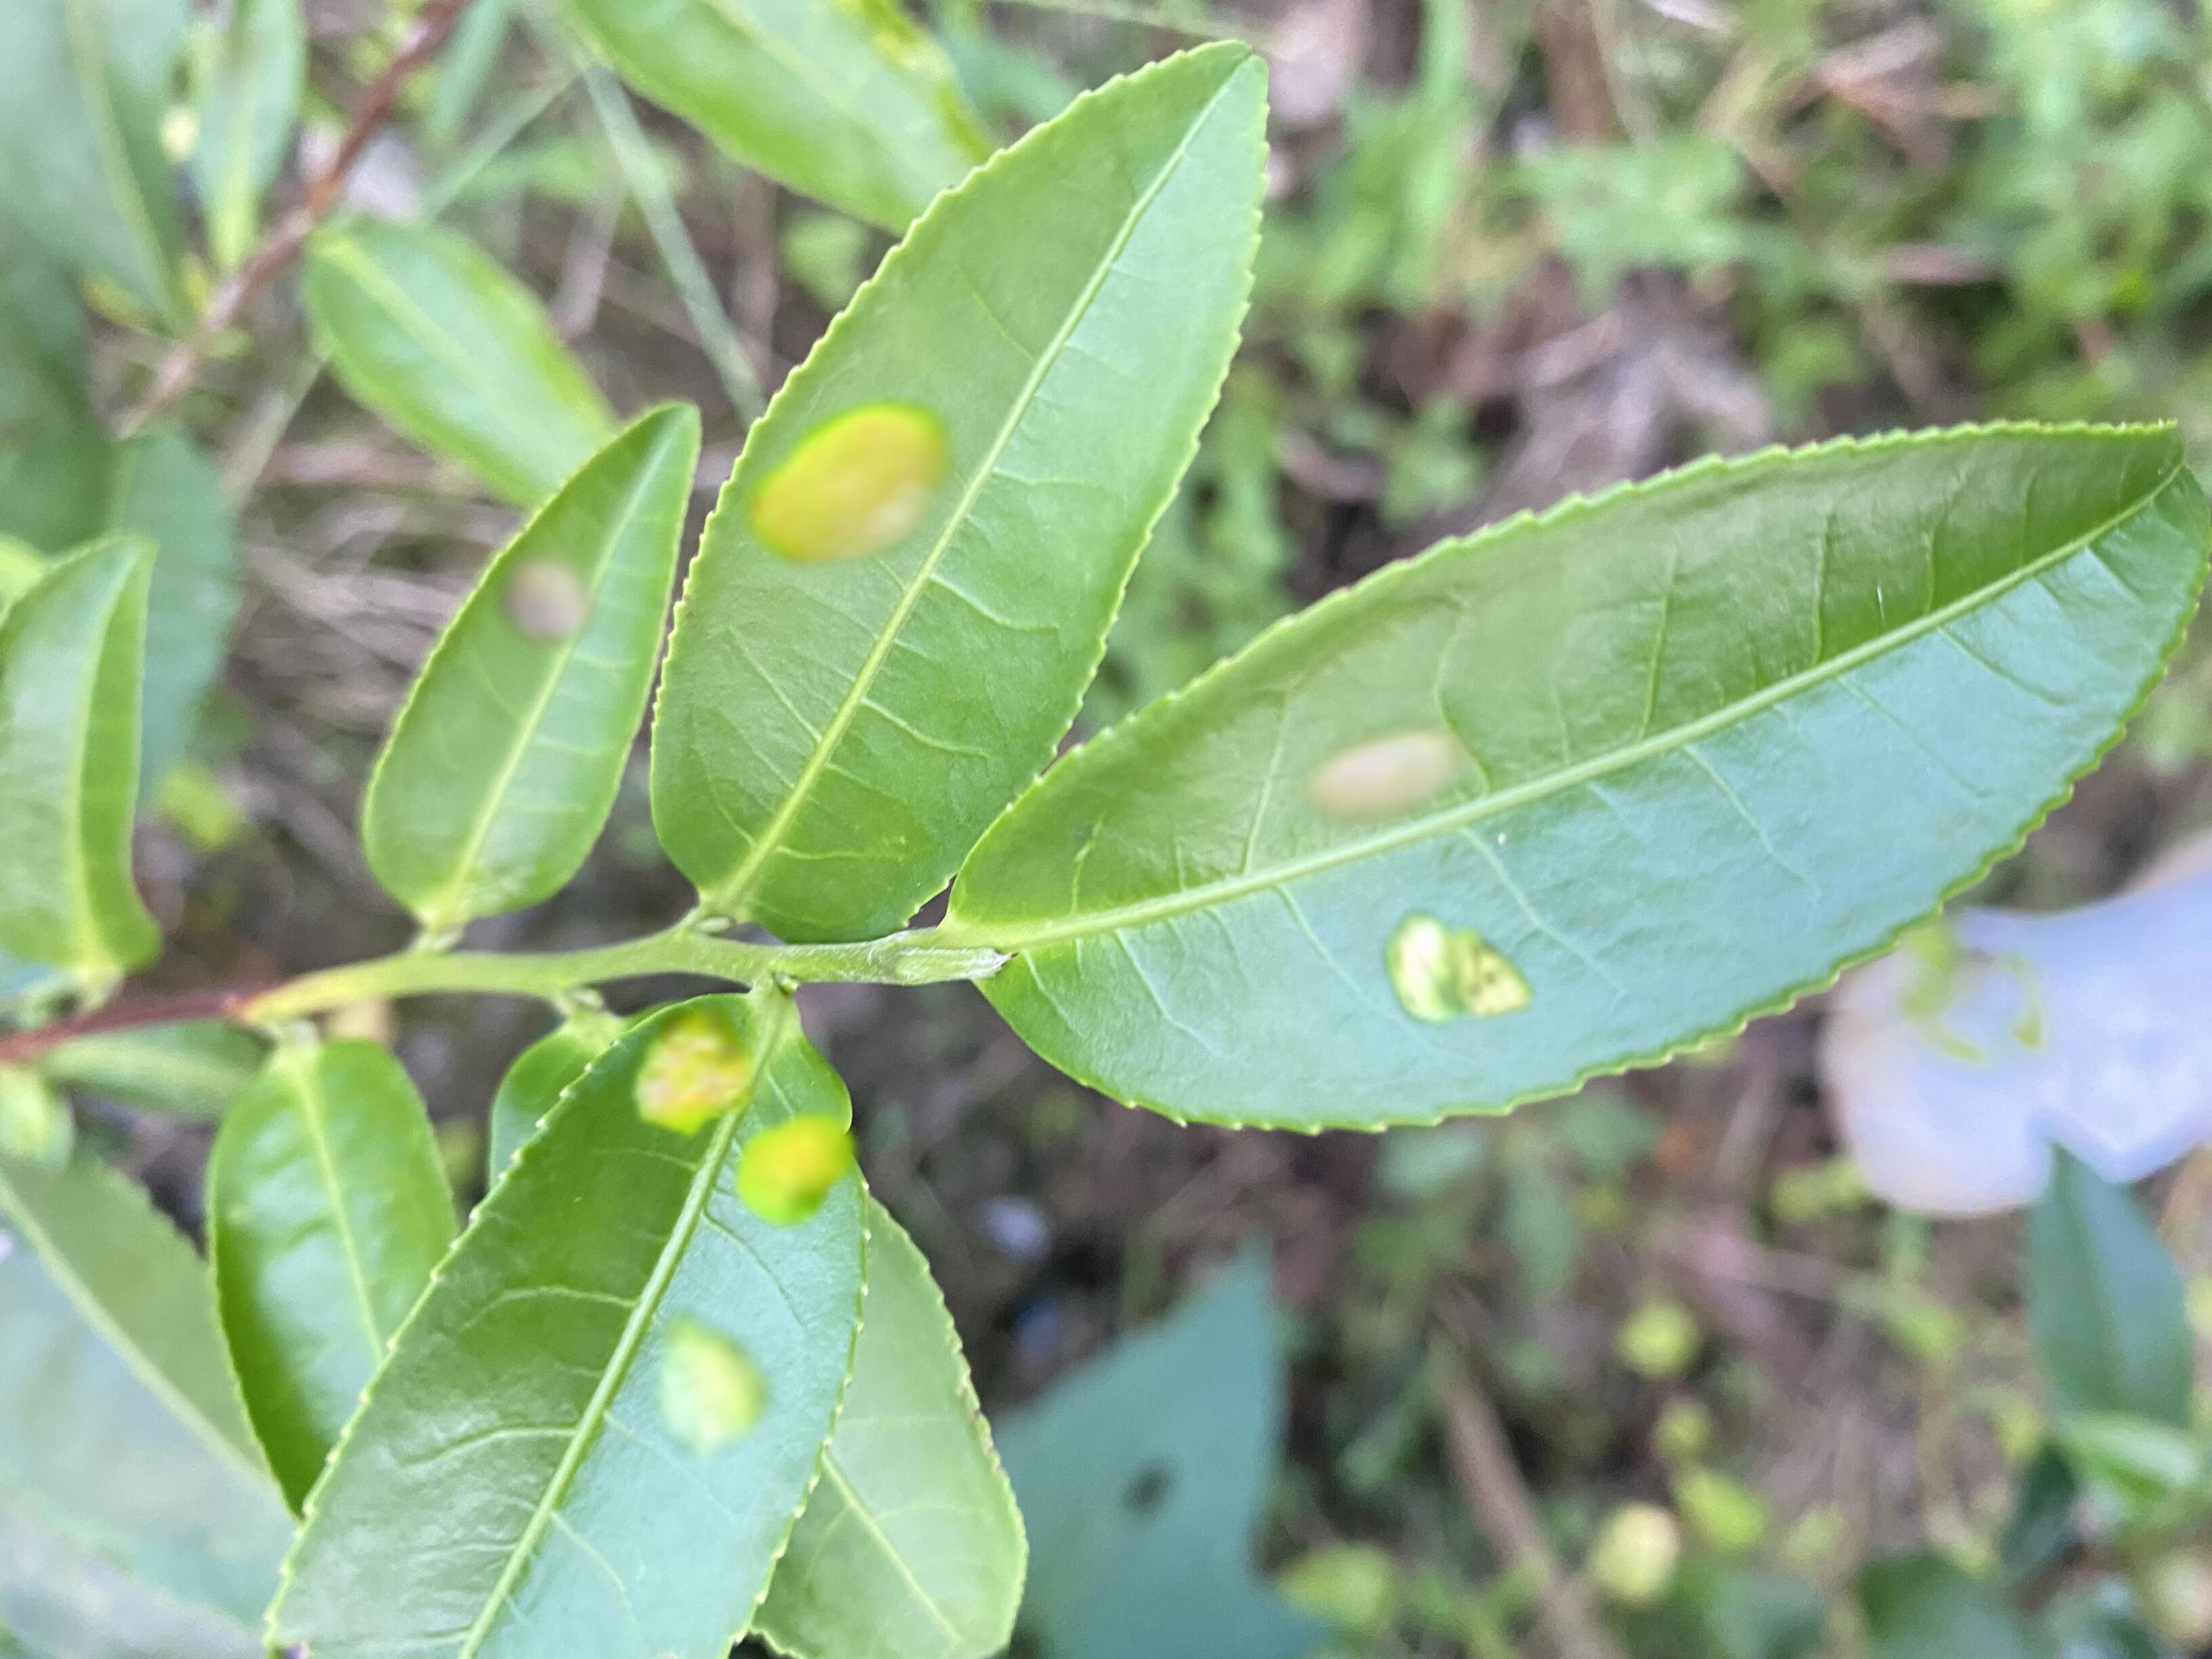chabing_high: (954, 418, 2210, 1138), (268, 993, 871, 1659)
chabing_low: (646, 38, 1271, 945), (359, 399, 704, 924)
